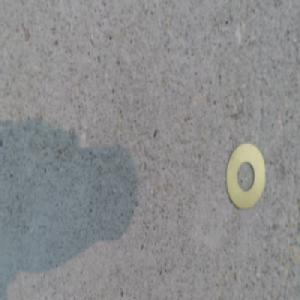Washer: (224, 139, 266, 210)
